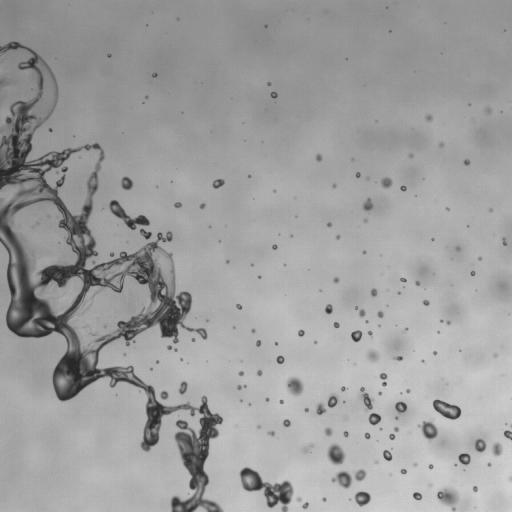droplet: (432, 399, 461, 419), (436, 487, 459, 511), (418, 419, 438, 440), (327, 444, 345, 465), (286, 376, 303, 396), (354, 491, 370, 506), (121, 176, 133, 190), (474, 438, 486, 452), (367, 349, 379, 362), (368, 413, 381, 425), (327, 393, 338, 407), (0, 77, 10, 92), (458, 453, 470, 465), (351, 330, 362, 342), (395, 401, 406, 413), (492, 442, 502, 455), (381, 177, 392, 188), (212, 179, 224, 188), (363, 198, 372, 210), (316, 403, 325, 415), (179, 381, 187, 394), (140, 229, 151, 238), (383, 450, 392, 460), (159, 390, 168, 399), (276, 355, 284, 364), (413, 492, 422, 500), (504, 430, 511, 440), (324, 427, 332, 435), (325, 304, 332, 313), (370, 288, 377, 296), (358, 309, 365, 317), (283, 419, 290, 426), (393, 356, 402, 361), (270, 92, 277, 98), (425, 115, 432, 121), (316, 154, 322, 161), (377, 311, 383, 318), (298, 329, 304, 336), (485, 107, 491, 113), (333, 277, 339, 283), (364, 433, 370, 439), (389, 433, 395, 439), (302, 502, 308, 508), (174, 202, 181, 207), (82, 324, 89, 329), (502, 237, 506, 245), (464, 159, 469, 165), (400, 186, 406, 191), (423, 300, 429, 305), (236, 304, 242, 309), (333, 322, 339, 327), (256, 340, 261, 346), (400, 469, 406, 474), (200, 203, 205, 208), (272, 244, 277, 249), (257, 370, 262, 375), (341, 386, 346, 391), (343, 431, 348, 436), (400, 278, 406, 282), (394, 426, 398, 432), (268, 431, 274, 435), (473, 486, 477, 492), (356, 172, 360, 177), (456, 246, 460, 251), (470, 271, 475, 275), (415, 281, 420, 285), (251, 328, 255, 333), (368, 331, 372, 336), (239, 371, 244, 375), (429, 464, 433, 469), (296, 497, 301, 501), (152, 73, 156, 77), (439, 143, 443, 147), (327, 222, 331, 226), (336, 235, 340, 239), (167, 345, 171, 349), (406, 389, 410, 393), (265, 397, 269, 401), (304, 408, 308, 412), (322, 497, 326, 501), (408, 154, 413, 157), (35, 222, 38, 226), (446, 320, 449, 324), (279, 400, 283, 403), (487, 463, 491, 466), (509, 476, 511, 481), (49, 128, 52, 131), (363, 251, 366, 254), (478, 257, 481, 260), (103, 324, 106, 327), (404, 328, 407, 331), (274, 342, 277, 345), (433, 351, 436, 354), (414, 463, 417, 466), (108, 54, 110, 57), (268, 82, 270, 85), (273, 190, 276, 192), (364, 219, 366, 222), (192, 338, 194, 341), (494, 354, 496, 357), (378, 392, 381, 394), (258, 425, 260, 428), (375, 460, 377, 463), (333, 185, 335, 187), (446, 208, 448, 210), (258, 276, 260, 278), (398, 292, 400, 294), (174, 348, 176, 350)
ligament: (0, 46, 223, 511), (239, 467, 293, 511), (109, 200, 149, 230), (331, 469, 366, 488), (358, 387, 373, 410), (379, 372, 387, 386), (303, 444, 312, 453), (237, 385, 246, 389), (0, 98, 2, 103)
